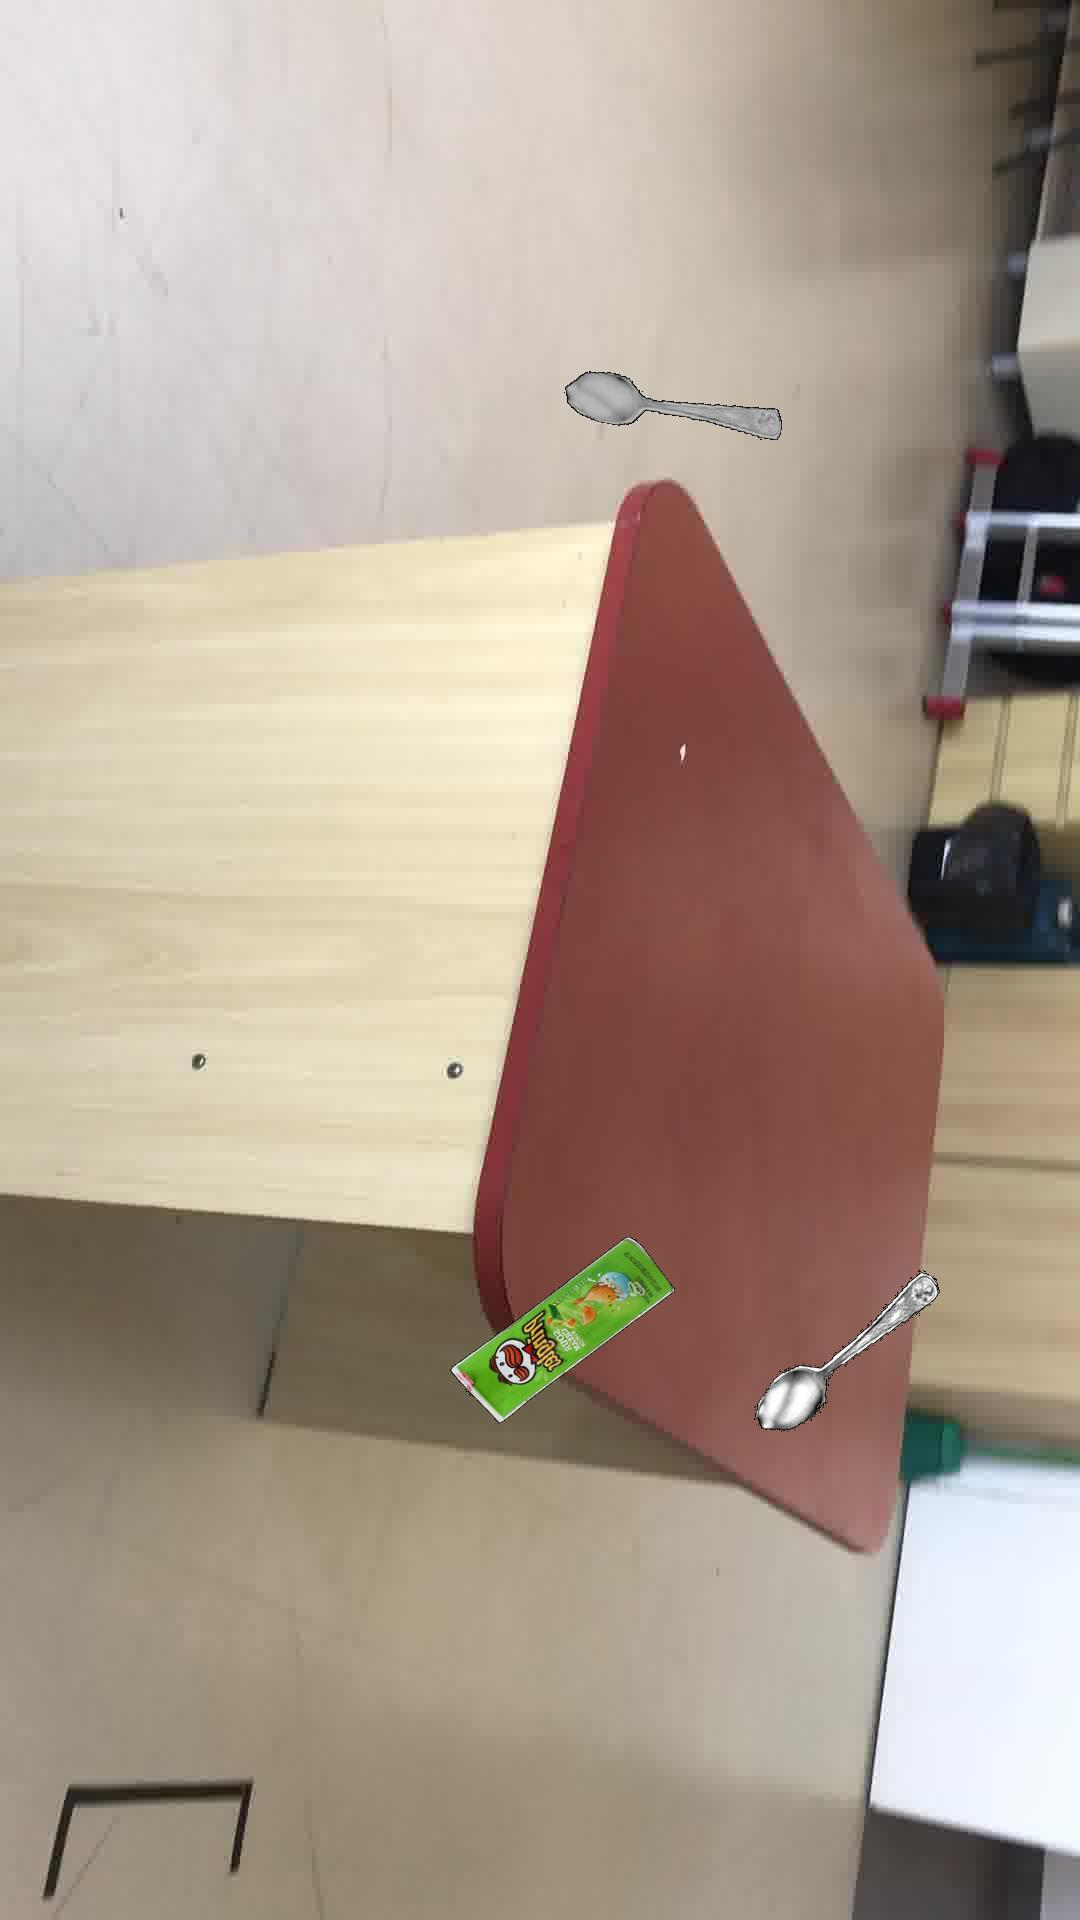pringles: (448, 1236, 674, 1422)
spoon: (753, 1271, 939, 1429), (563, 371, 781, 439)
